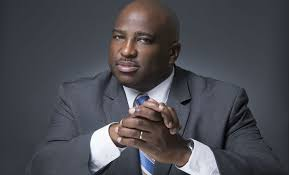black_male: (100, 12, 171, 87)
